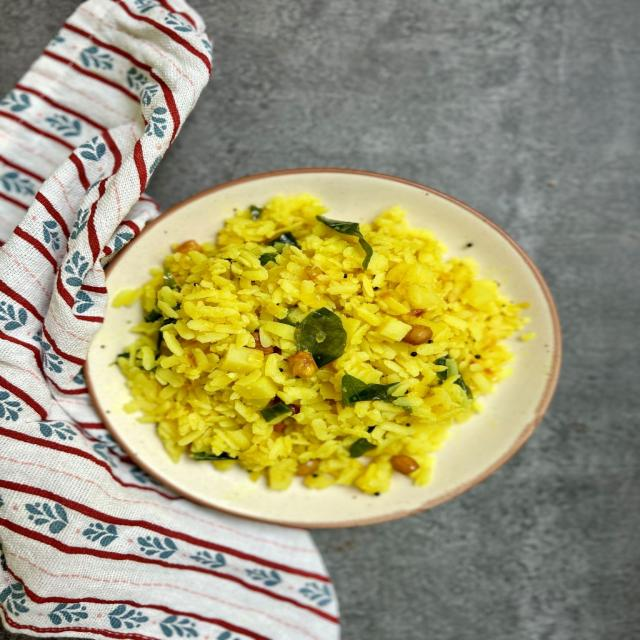POHA: (115, 198, 526, 490)
